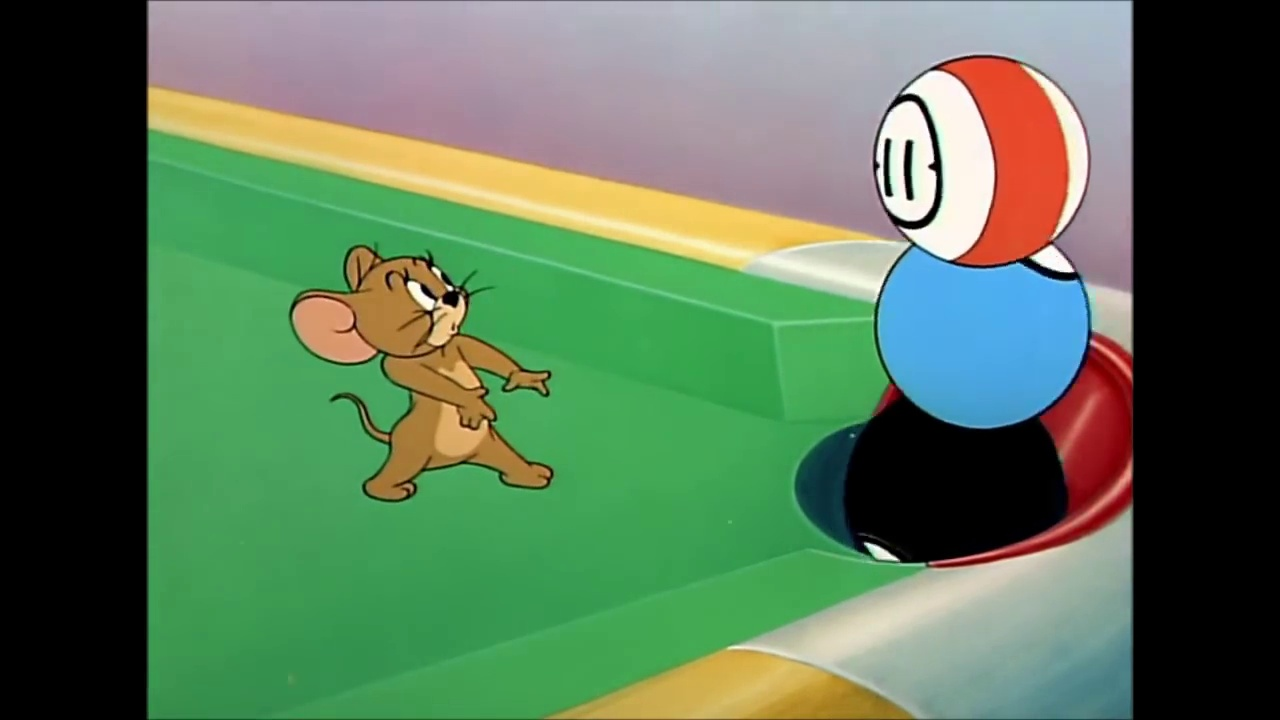surprised: (387, 251, 464, 349)
